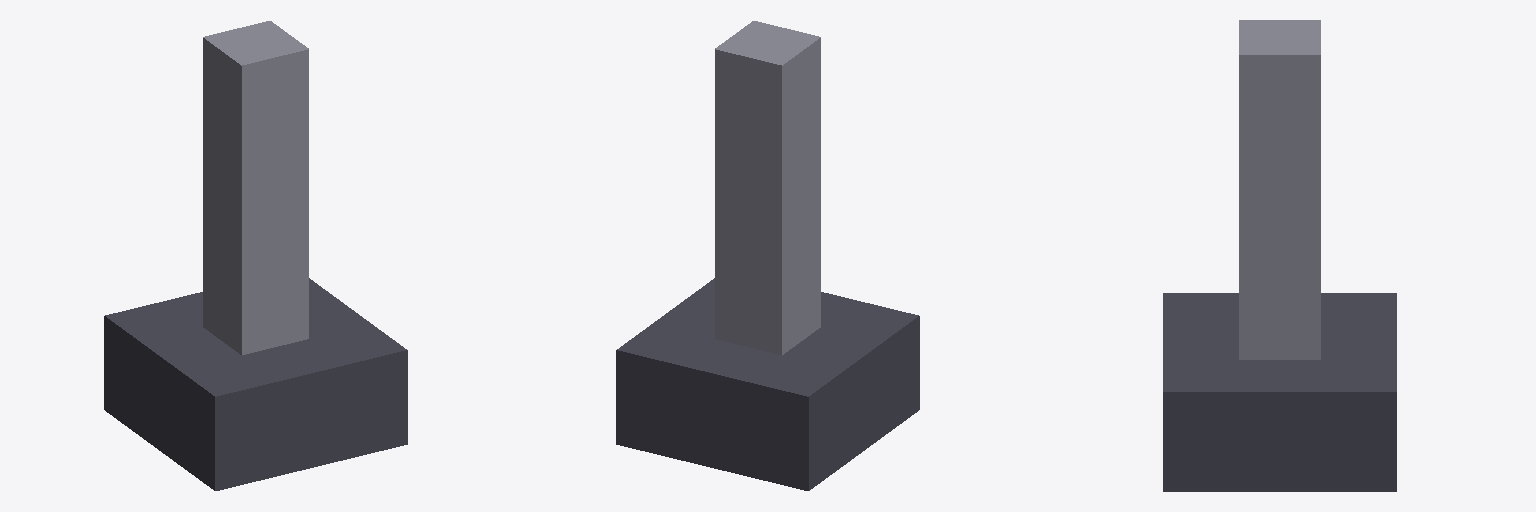
URDF robot description (stretch):
<?xml version="1.0"?>
<!-- Simplified, visual-only URDF for RViz.

     The robot geometry is approximate (a base box + mast + laser marker).
     It exists so that robot_state_publisher can publish /robot_description
     and the base_link -> laser transform; the simulator publishes the dynamic
     odom -> base_link transform from the MuJoCo state.
-->
<robot name="stretch">
  <material name="base_grey"><color rgba="0.35 0.35 0.40 1"/></material>
  <material name="mast_grey"><color rgba="0.60 0.60 0.65 1"/></material>
  <material name="laser_red"><color rgba="1.00 0.00 0.00 1"/></material>

  <link name="base_link">
    <inertial>
      <mass value="20.0"/>
      <inertia ixx="0.4" ixy="0.0" ixz="0.0" iyy="0.4" iyz="0.0" izz="0.4"/>
    </inertial>
    <visual>
      <geometry>
        <box size="0.34 0.34 0.16"/>
      </geometry>
      <origin xyz="0 0 0.08" rpy="0 0 0"/>
      <material name="base_grey"/>
    </visual>
    <visual>
      <geometry>
        <box size="0.12 0.12 0.5"/>
      </geometry>
      <origin xyz="0 0 0.4" rpy="0 0 0"/>
      <material name="mast_grey"/>
    </visual>
  </link>

  <link name="laser">
    <visual>
      <geometry>
        <sphere radius="0.02"/>
      </geometry>
      <material name="laser_red"/>
    </visual>
  </link>

  <joint name="base_to_laser" type="fixed">
    <parent link="base_link"/>
    <child link="laser"/>
    <!-- The MuJoCo laser body is mounted with a 180 deg yaw (quat "0 0 0 1"), so
         this rpy must match it or the LaserScan rays would be interpreted 180 deg
         rotated in the costmaps. -->
    <origin xyz="0.004 0 0.1664" rpy="0 0 3.14159"/>
  </joint>
</robot>

--- What the picture shows (computed from the rendered views, not written in the file) ---
Views: 3 orthographic renders of the robot side by side, from view 1: azimuth 30°, elevation 25°; view 2: azimuth 150°, elevation 25°; view 3: azimuth 270°, elevation 25°.
Model stretch with 2 links and 1 joints (1 fixed), rooted at base_link, posed every joint at zero.
Links seen in each view (by area): view 1: base_link; view 2: base_link; view 3: base_link.
Link boxes in pixels (x1,y1,x2,y2): base_link: (104,21,407,490); base_link: (616,21,919,490); base_link: (1163,20,1396,491).
Bounding box of the posed robot: 0.34 × 0.34 × 0.65 m (x, y, z).
Geometry: primitives only (box / cylinder / sphere), no mesh files.
